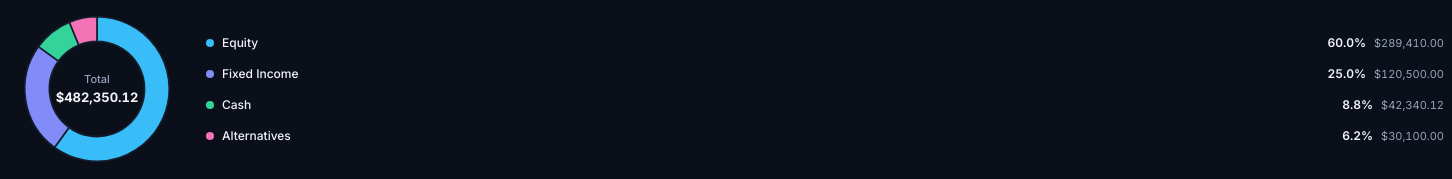
Test: Task 5: Asset Allocation Donut Chart Component › updates center label when hovering over a legend row
Hover over the element showing "Fixed Income 25.0% $120,500.00" at (260, 74), box [198,61,1451,86]
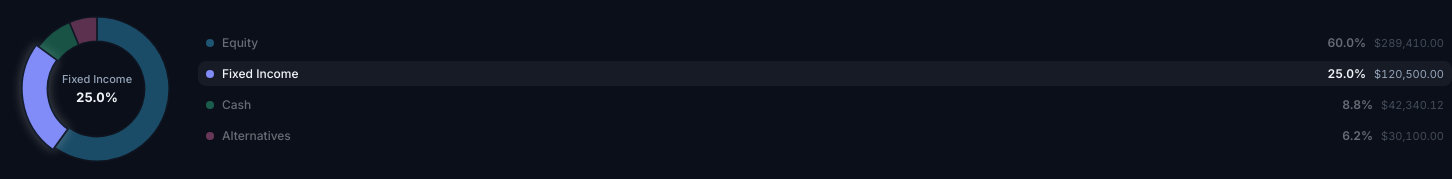
Move the pointer off the element showing "Fixed Income 25.0% $120,500.00", box [198,61,1451,86]
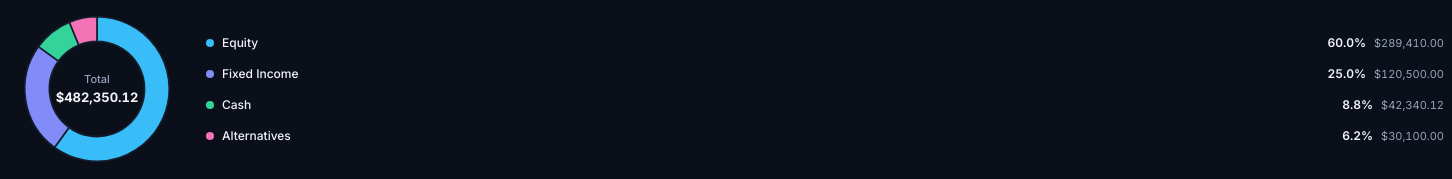
Expected: the text "Total" is shown, [84,73,110,87]
